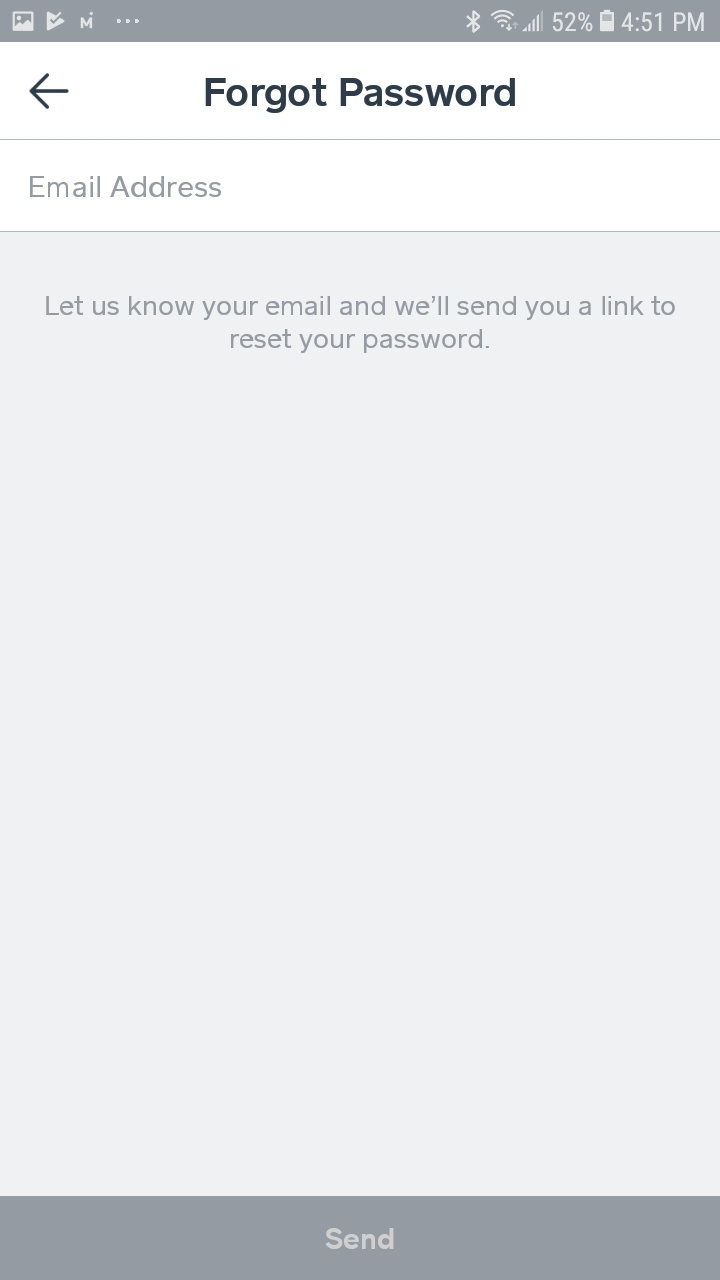Icon: (29, 73, 70, 111)
Text: (46, 296, 676, 354), (205, 78, 516, 115), (30, 176, 222, 199)
TextButton: (1, 1196, 720, 1280)
UpperTaskBar: (1, 1, 720, 43)
